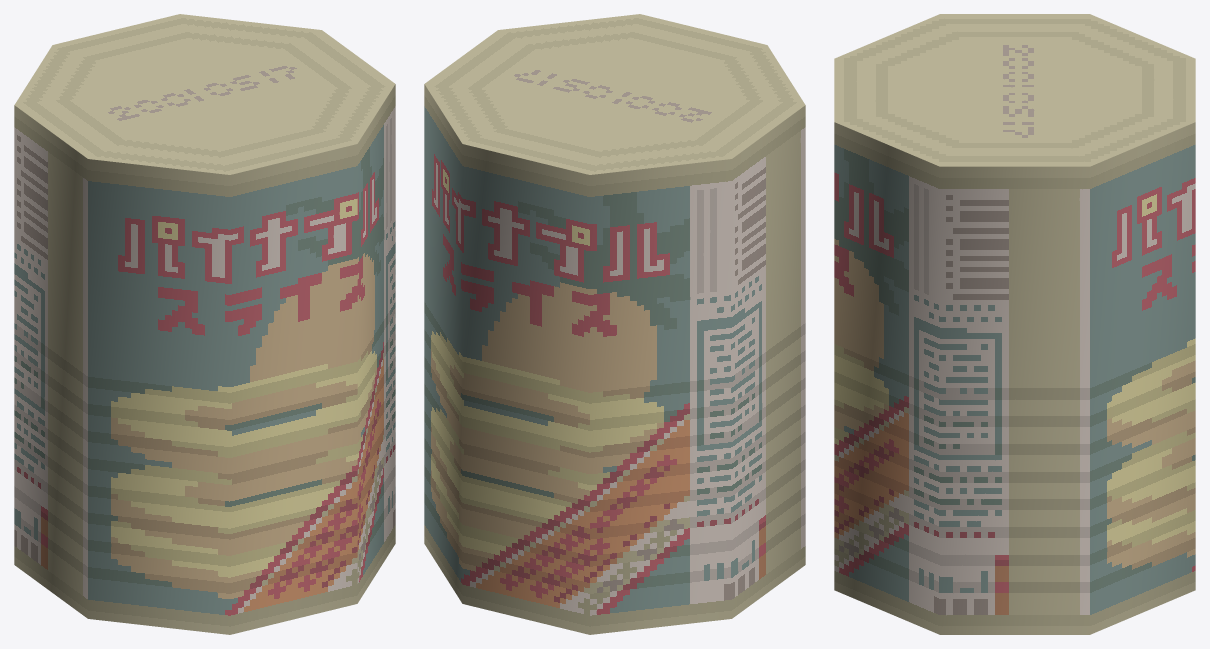
The model's file is 0008_Canned_Pineapple.glb.
The picture shows the model from 3 angles, left to right: view 1: azimuth 30°, elevation 25°; view 2: azimuth 150°, elevation 25°; view 3: azimuth 270°, elevation 25°; orthographic projection.
Parts seen in each view (by area): view 1: part_0; view 2: part_0; view 3: part_0.
Part boxes in pixels (x1,y1,x2,y2): part_0: (14,14,395,634); part_0: (424,14,805,634); part_0: (834,14,1195,634).
Size of the model in its own units: 0.1225 by 0.175 by 0.1225.
Materials: 1 (1 with a texture image).
